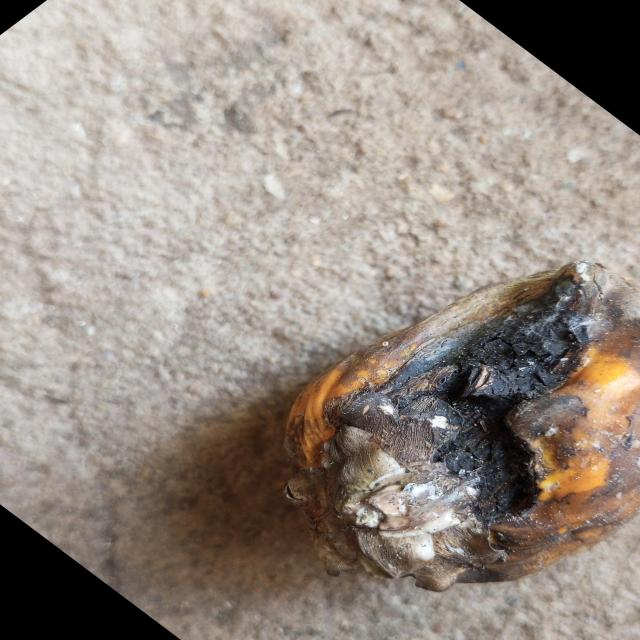damaged: (286, 261, 640, 591)
